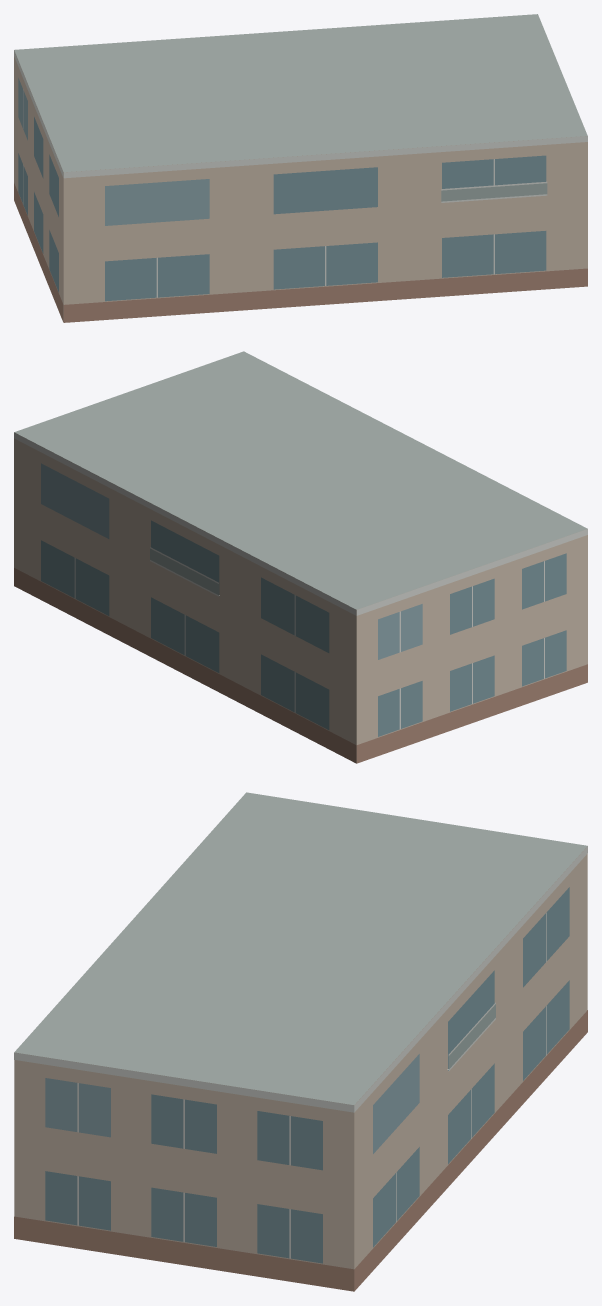
Rendered from survey-upis-32513101.glb.
3 renders of one model, top to bottom at view 1: azimuth 30°, elevation 25°; view 2: azimuth 150°, elevation 25°; view 3: azimuth 270°, elevation 25°, orthographic. The views are drawn at different scales.
Parts seen in each view (by area): view 1: survey-upis-32513101.tmp; view 2: survey-upis-32513101.tmp; view 3: survey-upis-32513101.tmp.
Part boxes in pixels (x1=…): survey-upis-32513101.tmp: x1=14, y1=14, x2=587, y2=322; survey-upis-32513101.tmp: x1=14, y1=351, x2=587, y2=763; survey-upis-32513101.tmp: x1=14, y1=792, x2=587, y2=1291.
Size of the model in its own units: 21.98 by 6.1 by 17.03.
